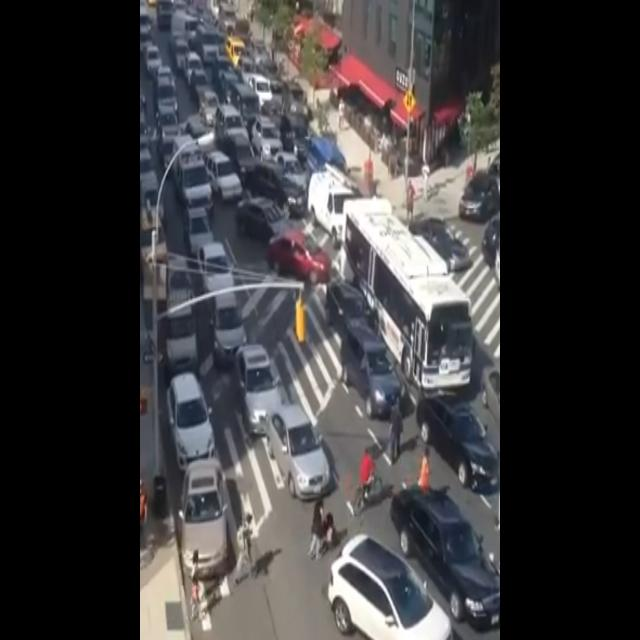Ambulance: (168, 123, 220, 218)
